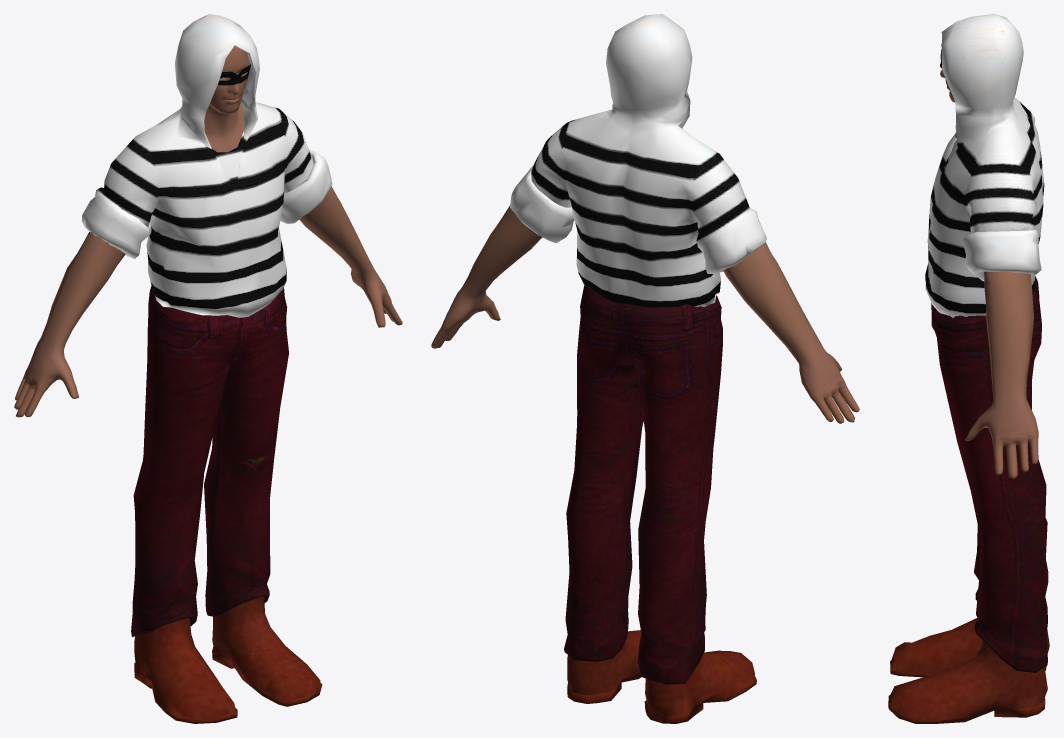
Rendered from theif character.fbx.
3 views of the same model, side by side, from view 1: azimuth 30°, elevation 25°; view 2: azimuth 150°, elevation 25°; view 3: azimuth 270°, elevation 25° (orthographic).
Parts seen in each view (by area): view 1: theif character; view 2: theif character; view 3: theif character.
Part boxes in pixels (x1,y1,x2,y2): theif character: (14,14,402,723); theif character: (431,14,859,723); theif character: (888,14,1049,723).
Size of the model in its own units: 93.14 by 148 by 32.13.
1 material, 1 textured.
